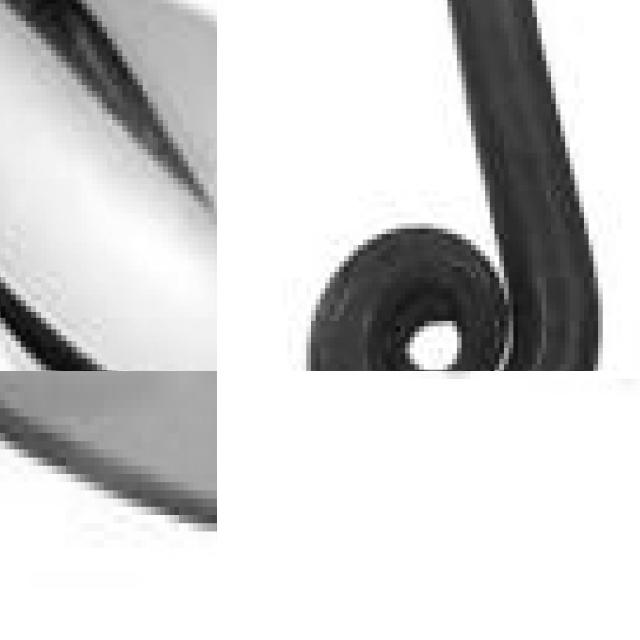spoons: (0, 0, 217, 371), (0, 371, 217, 572)
